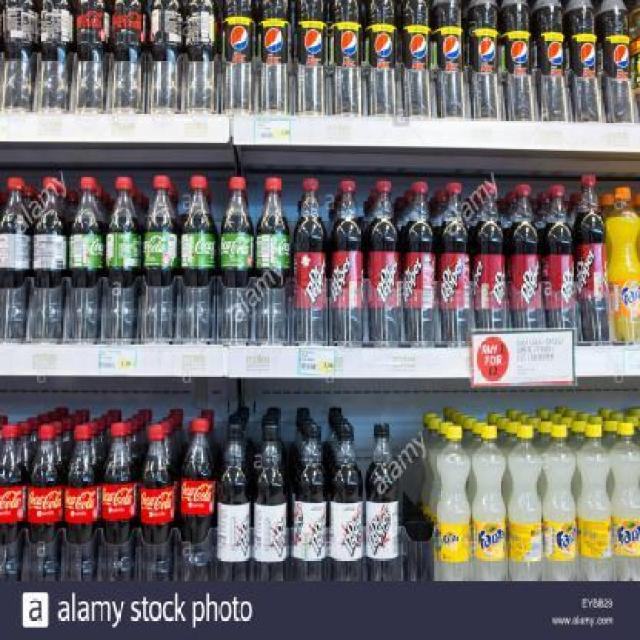Drinks: (219, 177, 255, 346), (255, 177, 291, 346), (328, 179, 364, 346), (292, 179, 328, 346), (470, 424, 508, 582), (99, 422, 136, 583), (436, 182, 472, 347), (63, 424, 100, 582), (138, 424, 174, 585), (27, 425, 64, 581), (180, 174, 214, 343), (574, 173, 608, 342), (367, 180, 401, 348), (436, 424, 472, 582), (217, 415, 251, 582), (181, 418, 216, 580), (143, 176, 177, 342), (292, 425, 328, 581), (328, 425, 364, 581), (365, 422, 400, 582), (69, 178, 103, 342), (32, 177, 66, 341), (402, 181, 436, 345), (252, 419, 286, 581), (578, 422, 612, 582), (107, 176, 139, 344), (508, 424, 542, 582), (543, 423, 577, 580), (471, 185, 507, 330), (0, 177, 31, 341), (540, 185, 574, 329), (608, 186, 638, 346), (0, 425, 28, 590), (508, 184, 540, 328), (0, 0, 40, 115), (595, 0, 631, 123), (612, 422, 639, 582), (38, 1, 76, 113), (256, 0, 292, 115), (293, 0, 329, 115), (76, 1, 112, 113), (111, 1, 147, 113), (222, 0, 257, 115), (329, 0, 364, 115), (366, 0, 401, 115), (467, 0, 501, 118), (185, 0, 220, 114), (430, 0, 464, 117), (149, 0, 184, 112), (564, 1, 596, 121), (501, 0, 532, 120), (533, 1, 564, 121), (402, 0, 432, 117)
